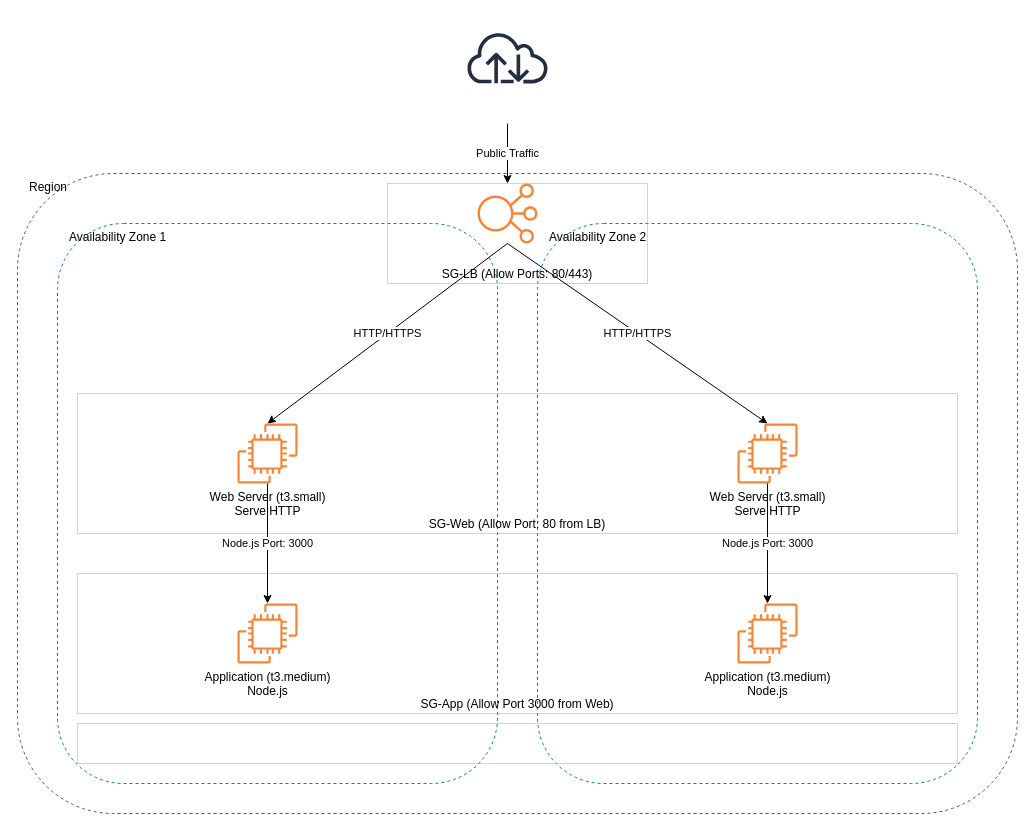
Some shapes in this 1035 by 831 pixel diagram are drawn without their labels. The centre of each missing label's shape, as x and y in pixels:
Application Load Balancer: the point at 507,213
Internet: the point at 507,57
SG-Internal (Private Access): the point at 517,743
